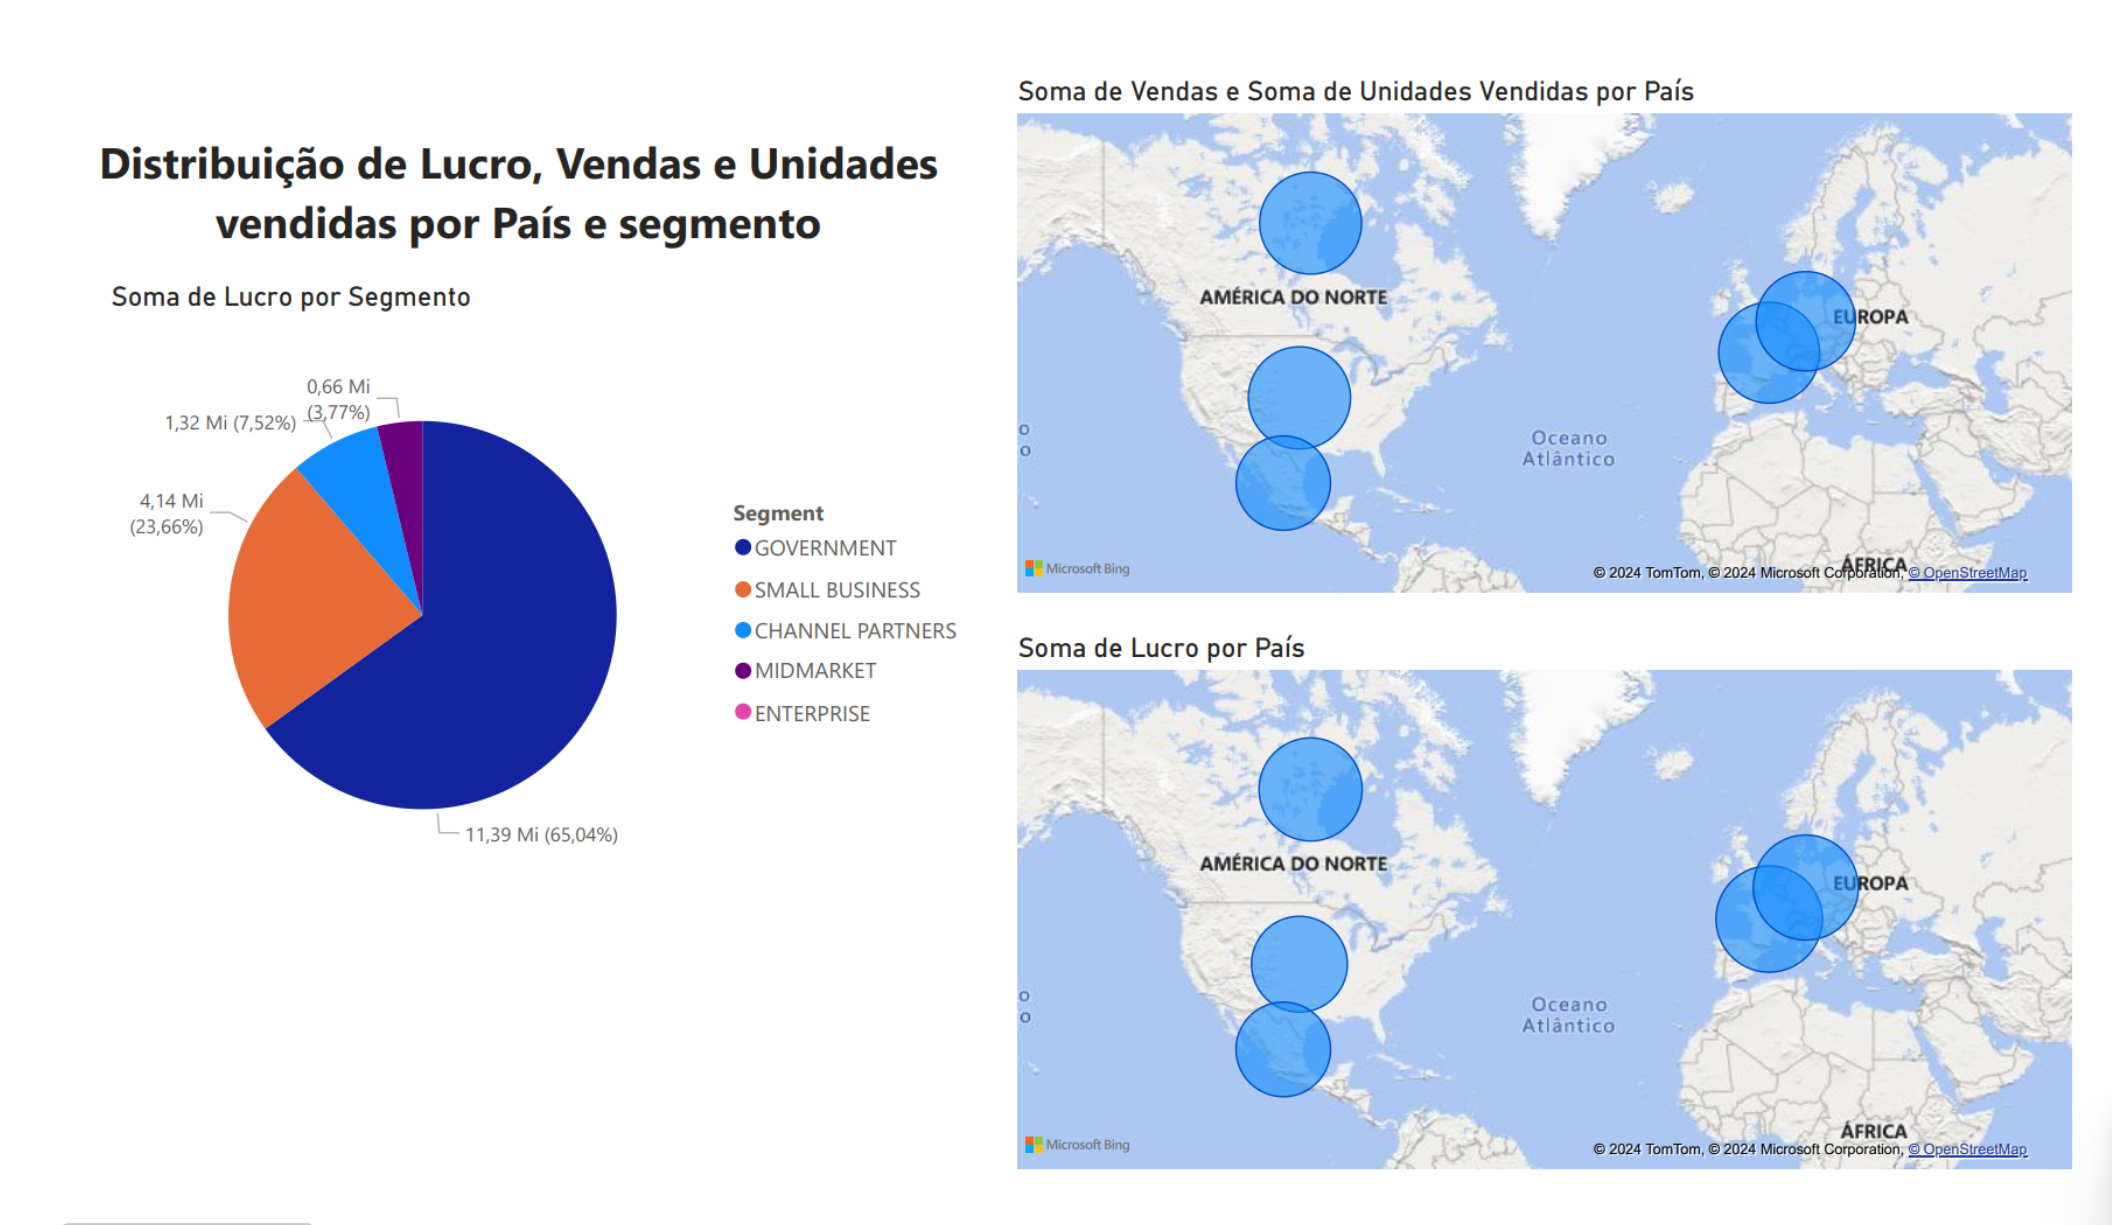

This screenshot's page, from the dashboard's own definition file:
{"tool":"powerbi","page":{"name":"Página 3","canvas":[1280,720],"ordinal":2},"visuals":[{"type":"pieChart","title":"Soma de Lucro por Segmento","fields":{"Y":["Sum(financials.Profit)"],"Category":["financials.Segment"]},"box":[47.5,153.1,538.2,393.1],"z":0},{"type":"map","title":"Soma de  Vendas e Soma de Unidades Vendidas por País","fields":{"Category":["financials.Country"],"Size":["Sum(financials. Sales)"]},"box":[604.5,26.9,656.4,323.3],"z":1000},{"type":"map","title":"Soma de Lucro por País","fields":{"Category":["financials.Country"],"Size":["Sum(financials.Profit)"]},"box":[604.5,369,656.4,334.9],"z":2000},{"type":"textbox","box":[0,57.3,604.5,91.3],"z":3000}]}

Visuals, with their boxes on the page's 1280x720 design canvas (x1, y1, x2, y2). These are canvas units, not pixel positions in the 2112x1225 screenshot, which may show the page scaled, cropped or inside an application window:
"Soma de Lucro por Segmento" pieChart: 48/153/586/546
"Soma de  Vendas e Soma de Unidades Vendidas por País" map: 604/27/1261/350
"Soma de Lucro por País" map: 604/369/1261/704
textbox: 0/57/604/149
